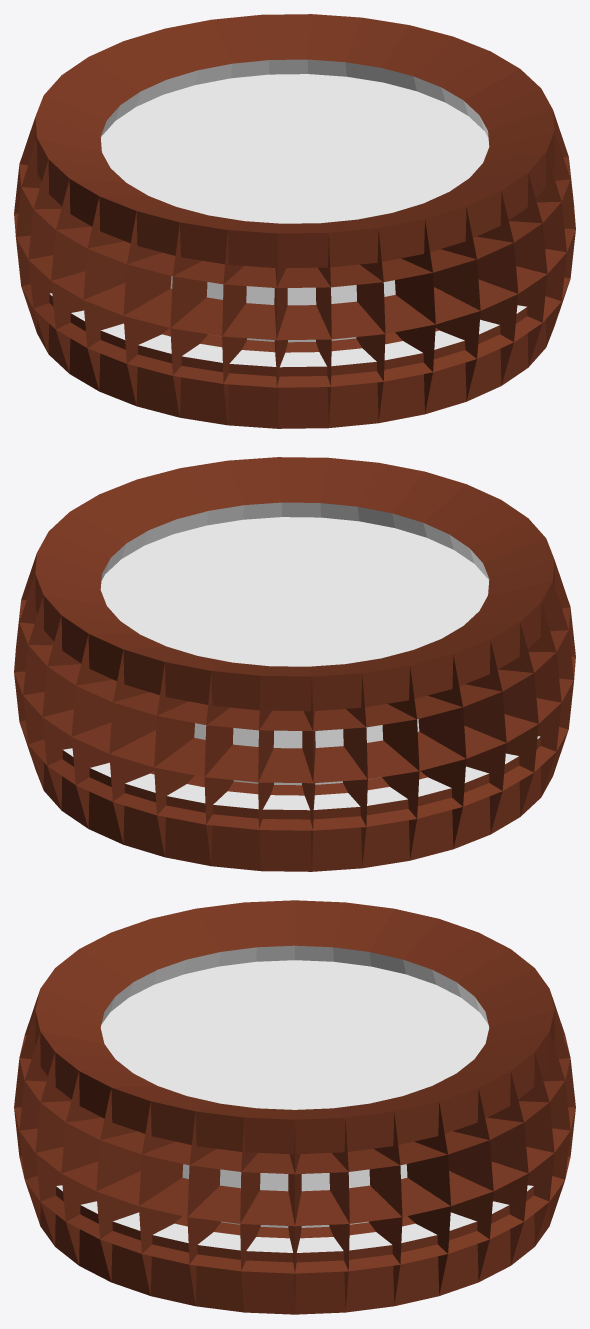
The model's file is jap11.fbx.
The picture shows the model from 3 angles, top to bottom: view 1: azimuth 30°, elevation 25°; view 2: azimuth 150°, elevation 25°; view 3: azimuth 270°, elevation 25°; orthographic projection.
Visible parts, largest first — view 1: Sphere; view 2: Sphere; view 3: Sphere.
Part boxes in pixels (x1,y1,x2,y2): Sphere: (14, 14, 575, 428); Sphere: (14, 457, 575, 871); Sphere: (14, 900, 575, 1314).
Bounding box in the file's own units: 381 × 146 × 381.
